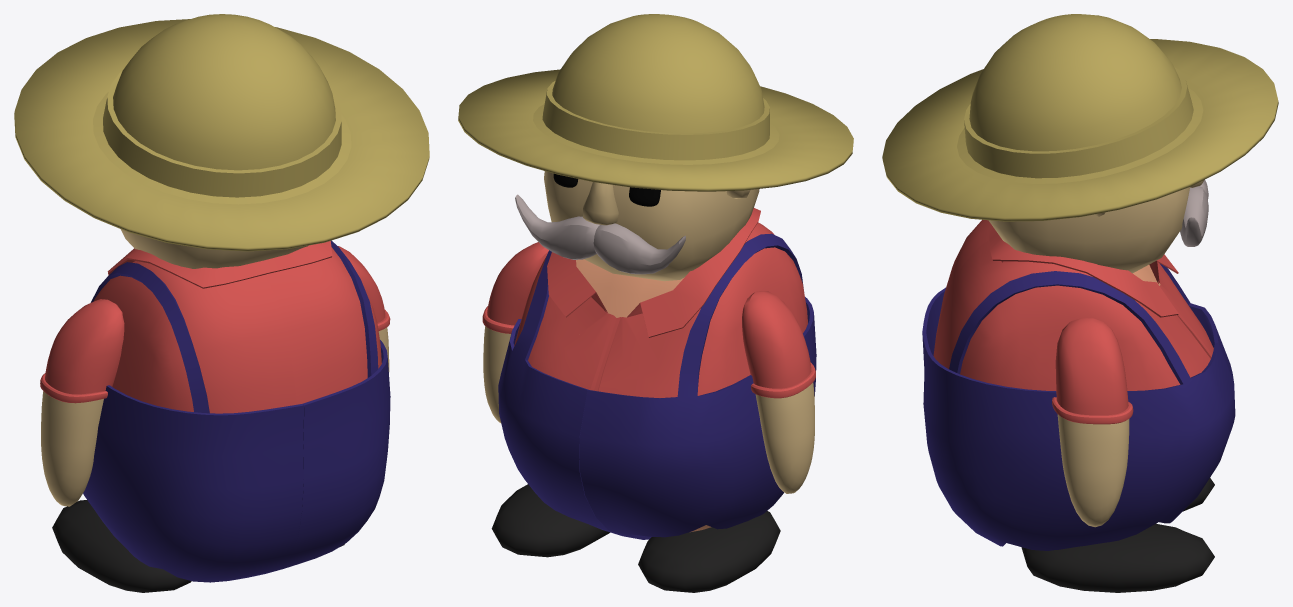
File: CharacterFarmer_IntroProj(1).fbx
3 renders of one model, left to right at view 1: azimuth 30°, elevation 25°; view 2: azimuth 150°, elevation 25°; view 3: azimuth 270°, elevation 25°, orthographic. The views are drawn at different scales.
Visible parts, largest first — view 1: Circle, Cube.005, Cube.001, Arms.002, Feet.002, Cube.023; view 2: Circle, Cube.005, Cube.001, Arms.002, Feet.002, Cube.023, Cube.025, Cube.024, Cube.010, Cube.009; view 3: Circle, Cube.005, Cube.001, Arms.002, Feet.002, Cube.023, Cube.025.
Part boxes in pixels (x1=…): Circle: x1=14, y1=14, x2=429, y2=251; Cube.005: x1=83, y1=240, x2=390, y2=582; Cube.001: x1=93, y1=241, x2=381, y2=413; Arms.002: x1=40, y1=246, x2=390, y2=506; Feet.002: x1=52, y1=500, x2=344, y2=592; Cube.023: x1=120, y1=229, x2=308, y2=268; Circle: x1=458, y1=14, x2=853, y2=191; Cube.005: x1=498, y1=233, x2=816, y2=539; Cube.001: x1=514, y1=208, x2=807, y2=397; Arms.002: x1=482, y1=242, x2=815, y2=493; Feet.002: x1=491, y1=484, x2=780, y2=592; Cube.023: x1=544, y1=171, x2=759, y2=281; Cube.025: x1=515, y1=194, x2=685, y2=274; Cube.024: x1=576, y1=259, x2=711, y2=532; Cube.010: x1=583, y1=182, x2=618, y2=225; Cube.009: x1=553, y1=173, x2=660, y2=206; Circle: x1=882, y1=14, x2=1278, y2=221; Cube.005: x1=922, y1=263, x2=1235, y2=550; Cube.001: x1=933, y1=219, x2=1213, y2=390; Arms.002: x1=1052, y1=318, x2=1133, y2=527; Feet.002: x1=1021, y1=478, x2=1214, y2=592; Cube.023: x1=988, y1=187, x2=1189, y2=273; Cube.025: x1=1180, y1=180, x2=1208, y2=246.
Size of the model in its own units: 208 by 298 by 205.
